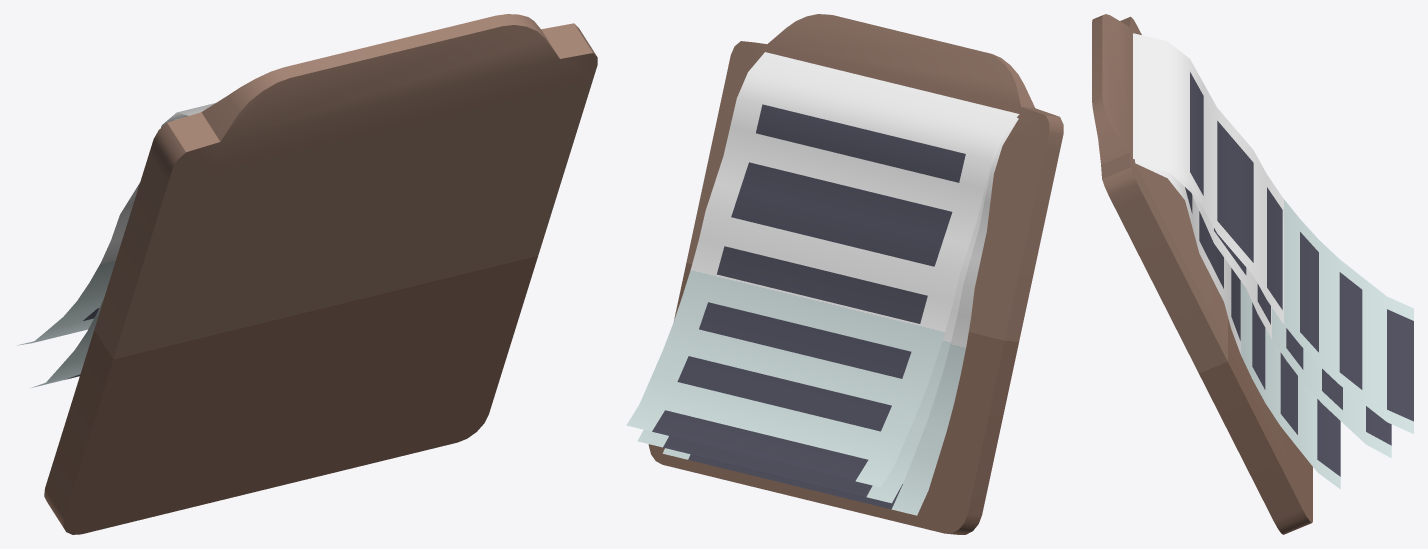
The model's file is Libreta.fbx.
3 renders of one model, left to right at view 1: azimuth 30°, elevation 25°; view 2: azimuth 150°, elevation 25°; view 3: azimuth 270°, elevation 25°, orthographic. The views are drawn at different scales.
Parts seen in each view (by area): view 1: Libreta; view 2: Libreta; view 3: Libreta.
Boxes of the visible parts, x1,y1,x2,y2 form: Libreta: (17,14,597,534); Libreta: (626,14,1063,534); Libreta: (1092,14,1413,534).
Size of the model in its own units: 70.84 by 85.17 by 61.24.
